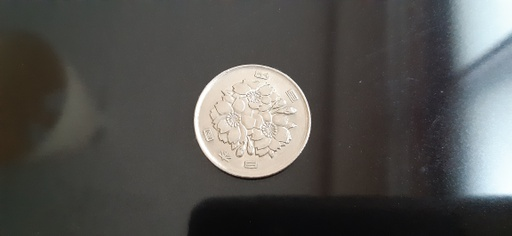100yen: (195, 65, 311, 179)
